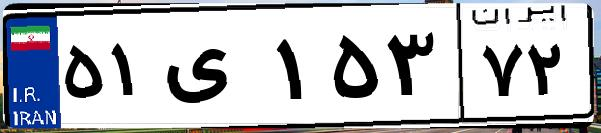1: (270, 28, 330, 110), (110, 28, 158, 98)
2: (525, 38, 570, 115)
3: (385, 28, 445, 110)
5: (330, 28, 385, 110), (57, 26, 110, 100)
7: (475, 38, 525, 113)
ی: (158, 20, 270, 120)
